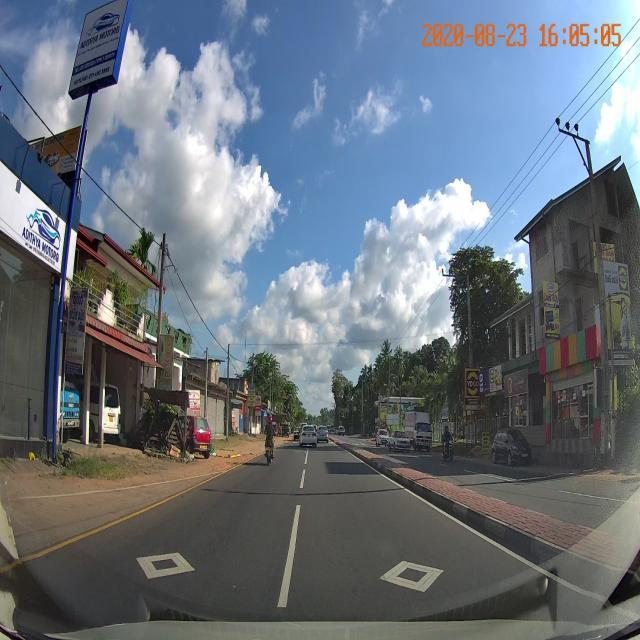diamond: (275, 548, 555, 608)
